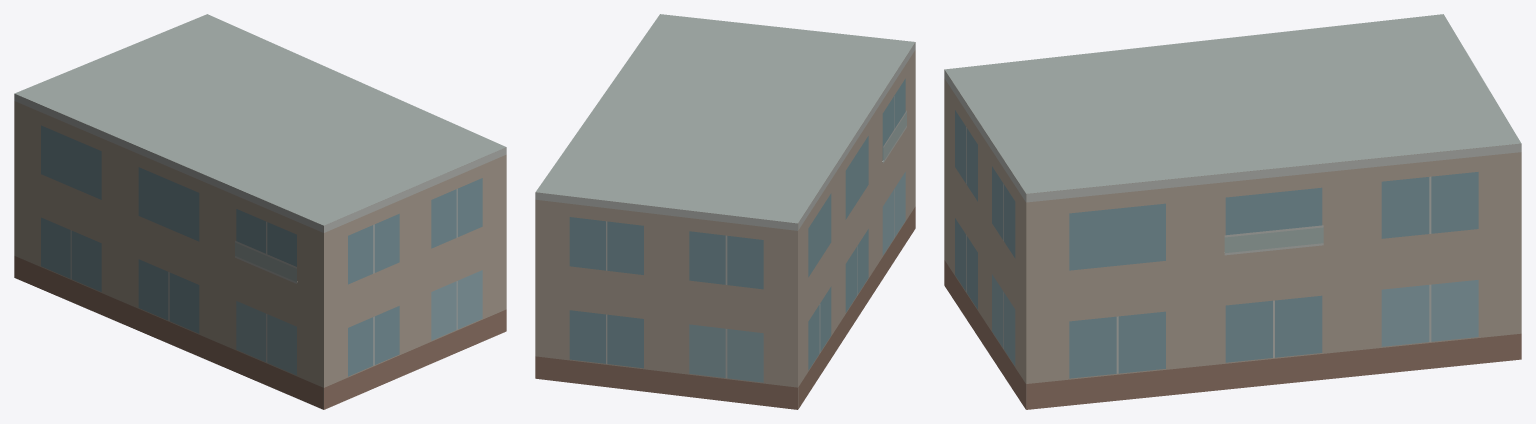
File: survey-upis-33044713.glb
3 renders of one model, left to right at view 1: azimuth 30°, elevation 25°; view 2: azimuth 150°, elevation 25°; view 3: azimuth 270°, elevation 25°, orthographic. The views are drawn at different scales.
Parts seen in each view (by area): view 1: survey-upis-33044713.tmp; view 2: survey-upis-33044713.tmp; view 3: survey-upis-33044713.tmp.
Part boxes in pixels (left/top/right/bottom): survey-upis-33044713.tmp: left=14, top=14, right=506, bottom=409; survey-upis-33044713.tmp: left=535, top=14, right=915, bottom=409; survey-upis-33044713.tmp: left=944, top=14, right=1521, bottom=409.
Size of the model in its own units: 10.9 by 6.1 by 14.78.
